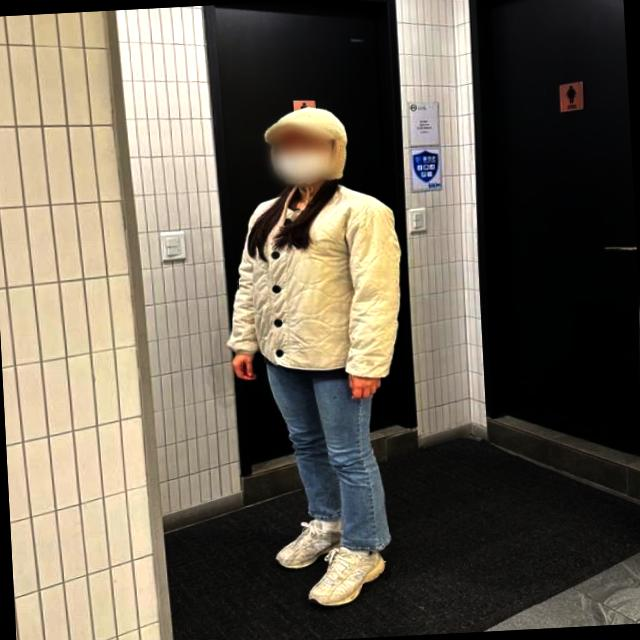denimpants: (264, 353, 397, 560)
padding: (217, 181, 410, 389)
